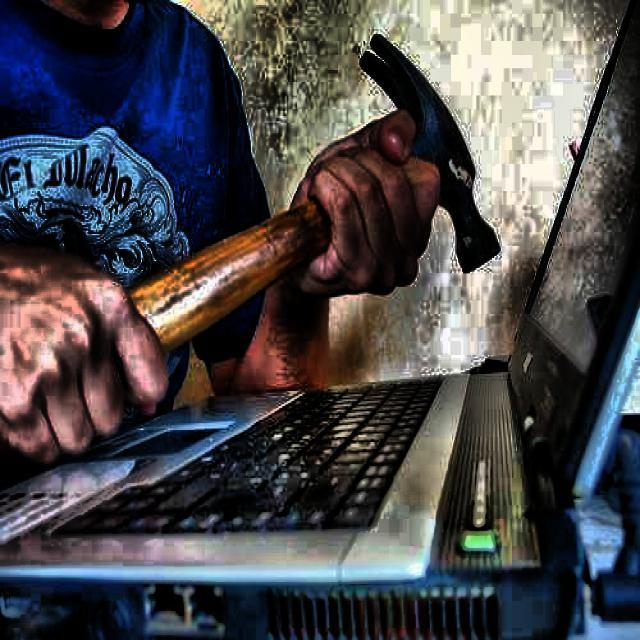hammer: (0, 30, 502, 443)
